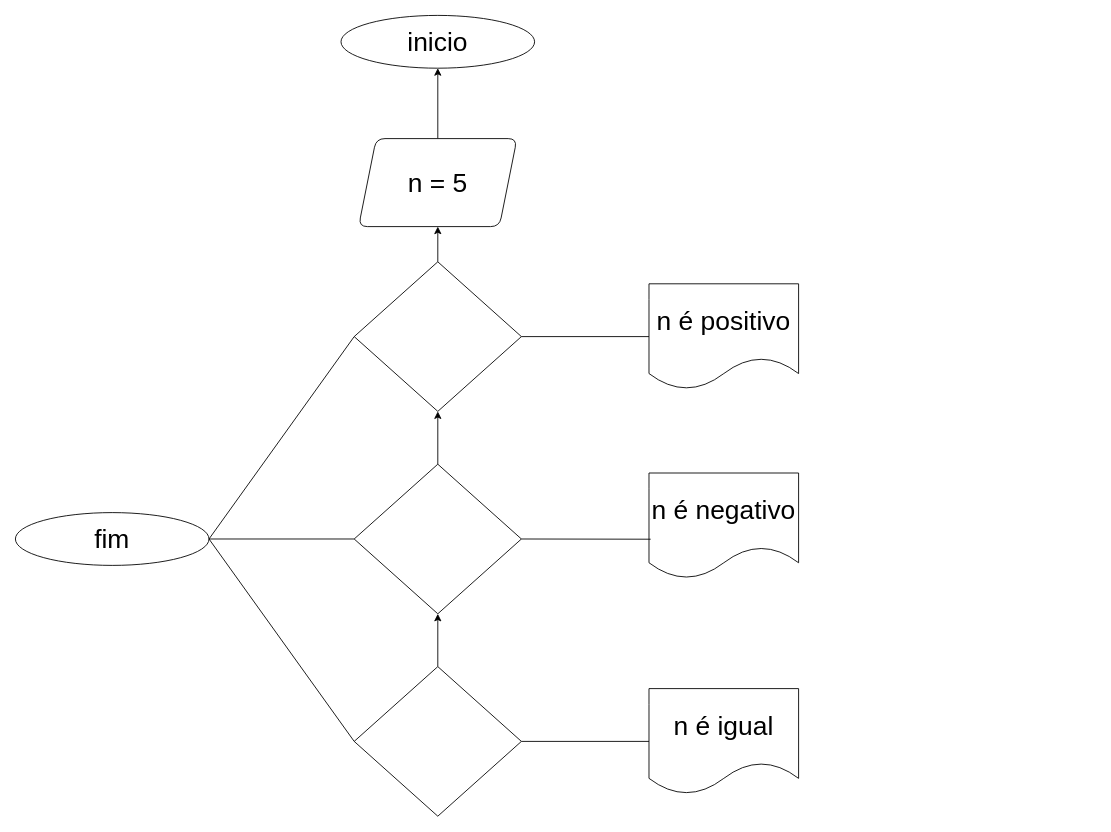
Some shapes in this 1111 by 832 pixel diagram are drawn without their labels. Each missing label, with the centre of its shape:
"n < 0" belongs at pixel 437 538.
"n == 0" belongs at pixel 437 741.
"n > 0" belongs at pixel 437 336.
